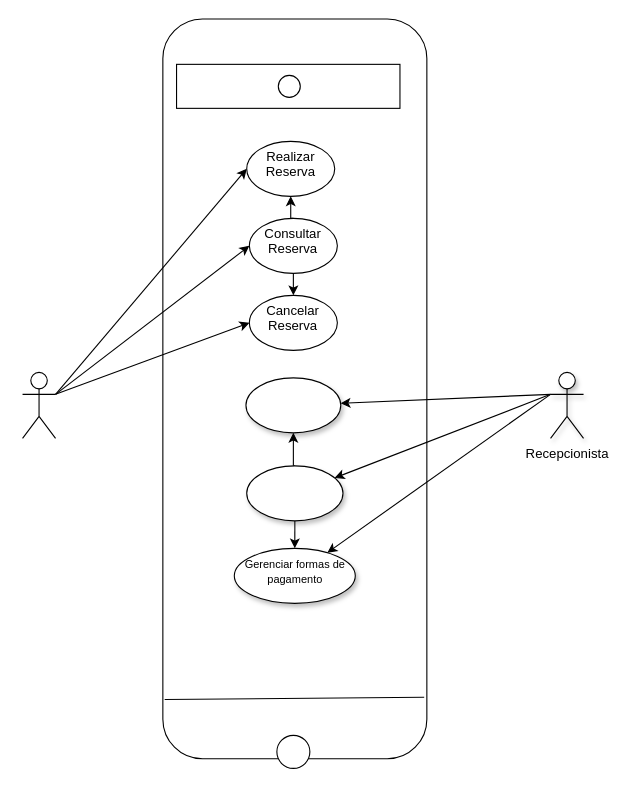
This 627x798 diagram has some shape labels left out. Here are the shapes that lost their labels. From the top down, the centre of each, then its label:
[38,404]: Cliente
[293,406]: Suporte ao Cliente
[295,494]: Gerenciar Reserva
